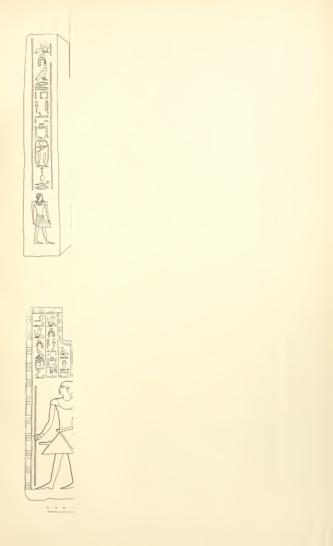circle: (33, 138, 51, 169)
